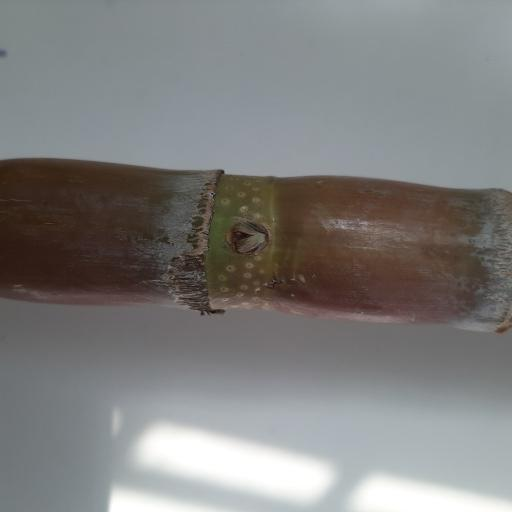Bud: (229, 220, 271, 257)
